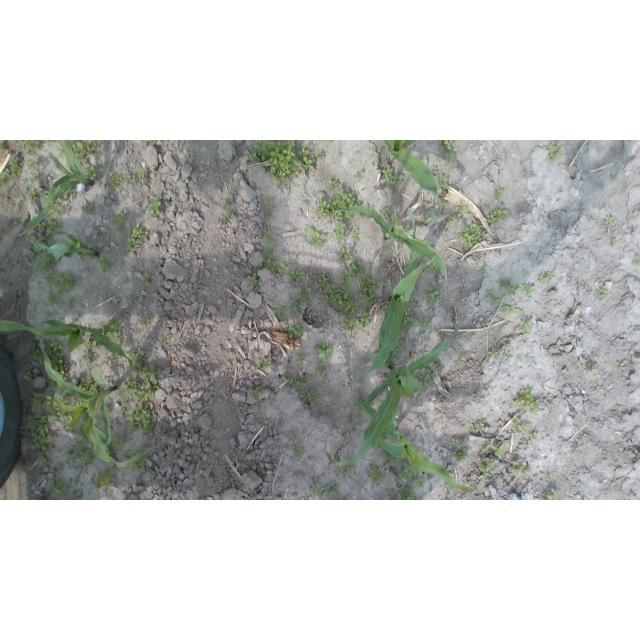Maize: (324, 321, 460, 467), (39, 337, 146, 491), (336, 182, 420, 360), (359, 390, 489, 496), (331, 206, 450, 280), (0, 318, 134, 375), (21, 141, 94, 240), (385, 141, 443, 228), (28, 229, 97, 276)
Weeds: (248, 140, 303, 184), (315, 188, 361, 221), (25, 414, 52, 467), (127, 350, 159, 391), (30, 391, 72, 422), (324, 284, 360, 315), (65, 435, 96, 469), (127, 403, 157, 438), (44, 339, 69, 375), (68, 140, 105, 164), (356, 276, 381, 309), (121, 378, 155, 402), (458, 223, 487, 249), (124, 224, 148, 253), (515, 388, 540, 414), (48, 196, 65, 233), (100, 320, 124, 346), (259, 244, 278, 276), (274, 301, 303, 320), (48, 474, 68, 500), (40, 258, 57, 288), (297, 148, 316, 173), (487, 204, 510, 224), (414, 368, 436, 388), (56, 271, 76, 293), (382, 168, 404, 188), (310, 482, 337, 498), (546, 140, 566, 161), (306, 228, 326, 249), (498, 299, 524, 315), (36, 221, 49, 252), (314, 340, 332, 362), (127, 450, 145, 472), (367, 465, 385, 486), (398, 461, 415, 483), (479, 457, 498, 476), (423, 284, 444, 301), (332, 221, 349, 242), (289, 374, 311, 390), (512, 460, 531, 478), (512, 416, 531, 434), (106, 435, 122, 456), (391, 486, 415, 500), (297, 389, 318, 404), (499, 280, 520, 295), (289, 270, 310, 285), (385, 345, 399, 367), (247, 273, 261, 295), (292, 288, 313, 302), (344, 314, 361, 331), (25, 366, 40, 385), (484, 291, 504, 305), (107, 172, 123, 189), (148, 199, 164, 216), (339, 270, 355, 287), (21, 141, 39, 156), (537, 270, 556, 284), (288, 323, 305, 338), (79, 380, 98, 393), (84, 164, 99, 180), (255, 357, 272, 371), (99, 256, 113, 273), (400, 312, 414, 329), (258, 229, 276, 242), (67, 423, 85, 436), (352, 259, 365, 277), (249, 387, 264, 402), (435, 174, 450, 189), (81, 350, 97, 364), (384, 451, 400, 465), (339, 248, 353, 264), (340, 463, 358, 475), (317, 272, 331, 287), (65, 297, 78, 313), (453, 449, 469, 462), (456, 205, 469, 221), (7, 156, 19, 173), (418, 317, 432, 331), (378, 206, 392, 220), (379, 430, 394, 443), (112, 212, 128, 224), (0, 170, 16, 182), (359, 312, 373, 325), (50, 292, 63, 306), (140, 274, 153, 288), (491, 444, 505, 457), (472, 420, 486, 433), (451, 436, 466, 448), (439, 140, 454, 152), (395, 329, 405, 346), (520, 320, 533, 333), (315, 363, 327, 377), (603, 216, 615, 229), (27, 159, 40, 171), (63, 376, 78, 386), (70, 488, 82, 500), (493, 186, 505, 198), (31, 348, 42, 361), (527, 432, 538, 445), (84, 339, 98, 349), (521, 283, 535, 293), (279, 262, 289, 276), (294, 446, 305, 458), (544, 489, 556, 500), (426, 259, 438, 270), (444, 153, 456, 164), (356, 400, 366, 413), (62, 188, 73, 199), (415, 476, 425, 488), (575, 356, 585, 368), (489, 348, 502, 357), (600, 286, 609, 299), (263, 195, 273, 206), (140, 315, 151, 325), (83, 204, 93, 215), (408, 296, 418, 307), (328, 179, 340, 188), (353, 228, 360, 243), (429, 165, 439, 175), (28, 189, 37, 200), (107, 354, 116, 365), (376, 268, 387, 277), (294, 356, 304, 365), (56, 147, 66, 156), (347, 420, 357, 429), (12, 291, 21, 301), (220, 213, 228, 224), (220, 199, 229, 208), (482, 444, 491, 453), (95, 401, 102, 412), (138, 170, 146, 179), (259, 419, 266, 429), (361, 214, 371, 221), (310, 269, 317, 279), (160, 334, 171, 340), (457, 357, 466, 364), (572, 254, 581, 261), (316, 151, 325, 158), (422, 215, 430, 222), (504, 354, 512, 361), (445, 219, 453, 226), (113, 224, 120, 232), (634, 257, 640, 266), (618, 363, 625, 370), (553, 211, 560, 218), (125, 174, 131, 182), (547, 476, 555, 482), (435, 268, 441, 276), (357, 171, 365, 177), (461, 288, 470, 293), (406, 225, 413, 231), (483, 265, 490, 271), (611, 239, 617, 246), (28, 176, 35, 182), (264, 211, 271, 217), (119, 404, 125, 410), (291, 435, 298, 440), (574, 448, 581, 453), (561, 351, 567, 356), (1, 140, 6, 145), (437, 365, 441, 370), (46, 141, 52, 144), (519, 356, 523, 360)
